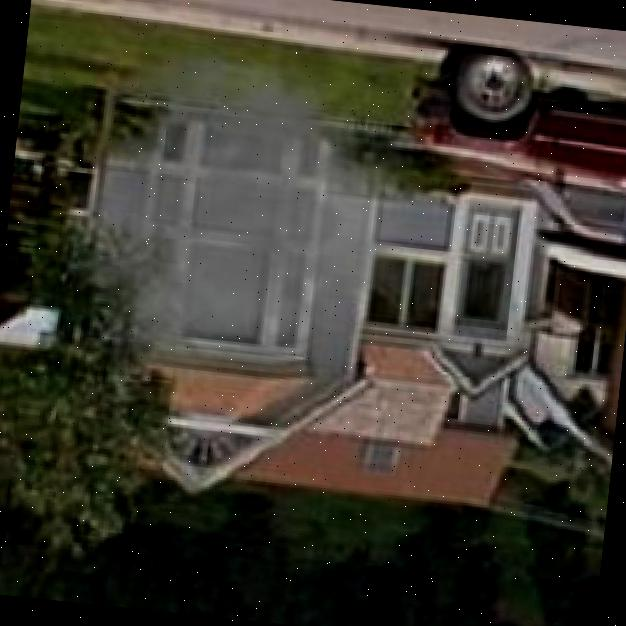smoke: (37, 3, 447, 404)
